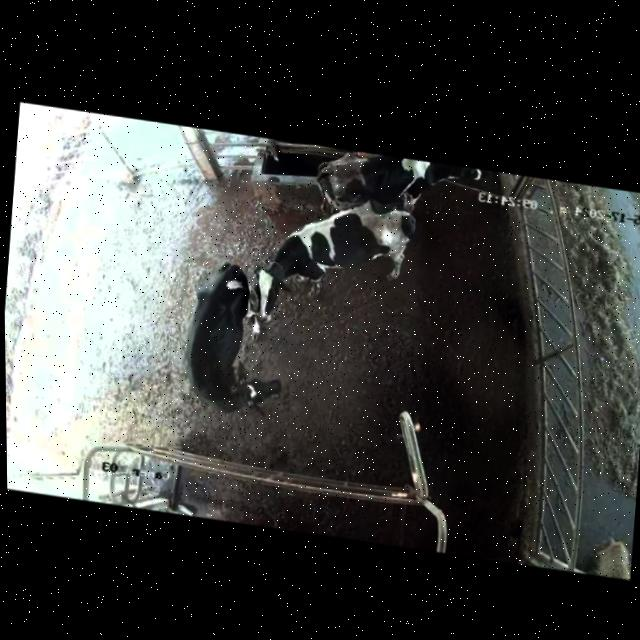stand: (247, 188, 426, 355), (163, 247, 301, 433), (310, 141, 498, 231)
